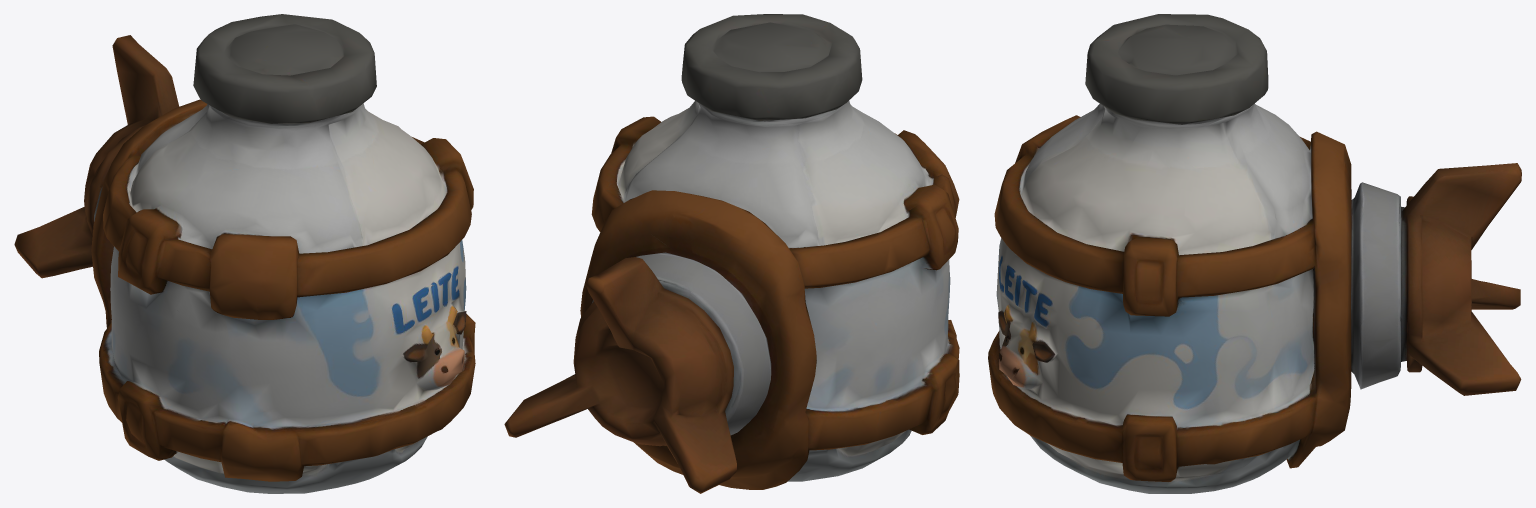
File: Milk+Projetil.fbx
The picture shows the model from 3 angles, left to right: view 1: azimuth 30°, elevation 25°; view 2: azimuth 150°, elevation 25°; view 3: azimuth 270°, elevation 25°; orthographic projection.
Parts seen in each view (by area): view 1: meshes[0]; view 2: meshes[0]; view 3: meshes[0].
Part boxes in pixels (left/top/right/bottom): meshes[0]: left=14, top=14, right=475, bottom=493; meshes[0]: left=504, top=14, right=959, bottom=493; meshes[0]: left=988, top=14, right=1521, bottom=493.
Bounding box in the file's own units: 0.7322 × 0.8477 × 1.
Materials: 1 (1 with a texture image).
